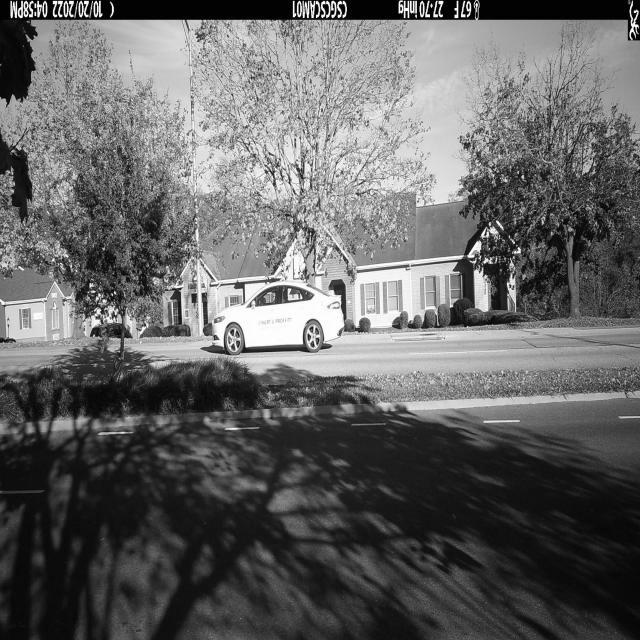Sedan: (212, 281, 344, 355)
